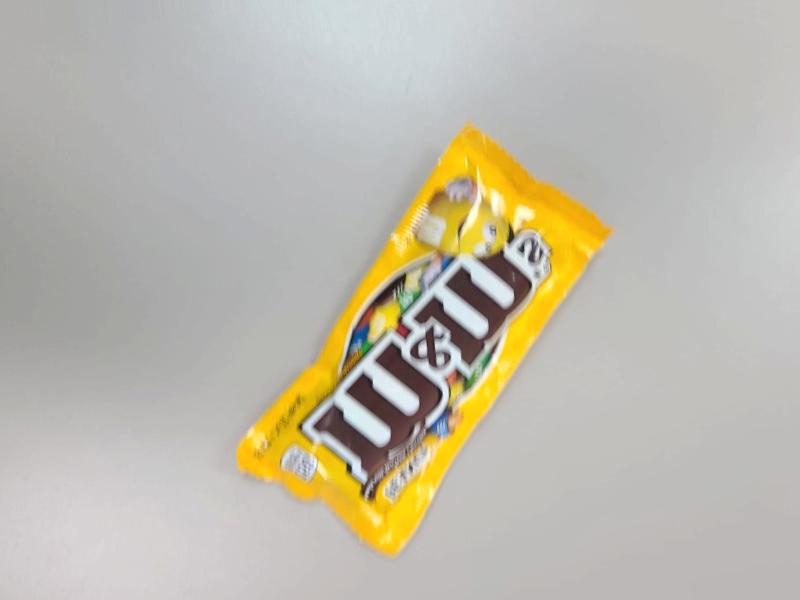m&m: (335, 115, 629, 578)
